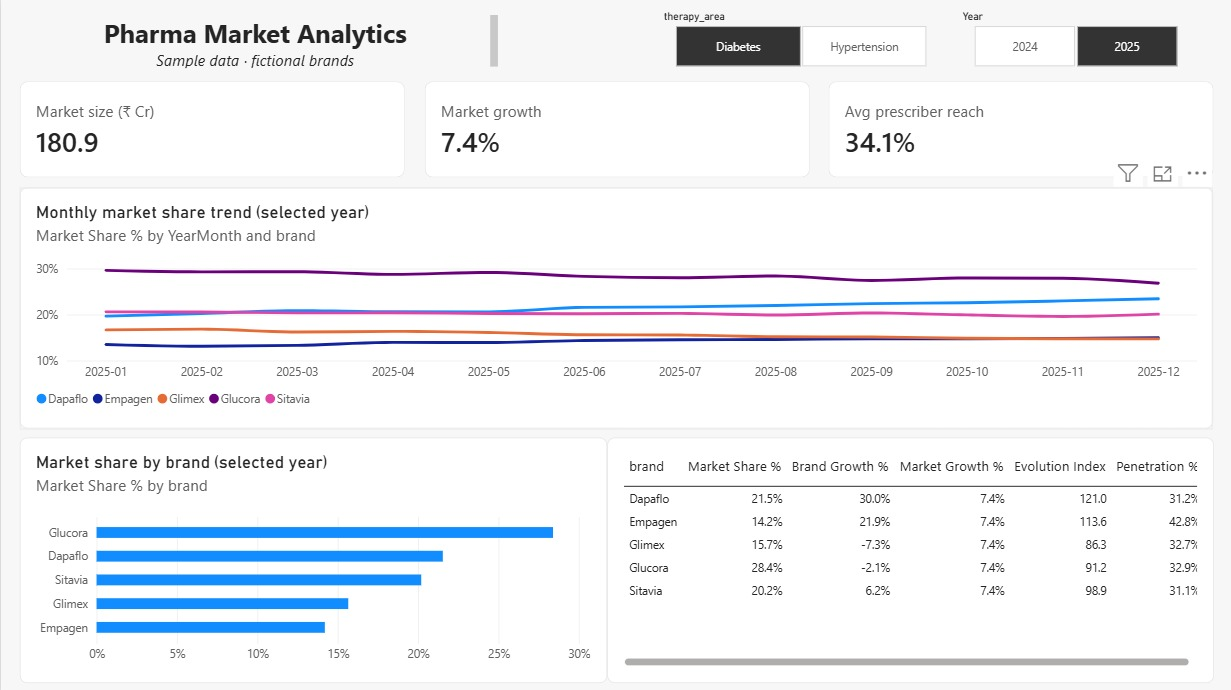

Layout of this report page (visuals, bound fields, positions):
{"tool":"powerbi","page":{"name":"Market Overview","canvas":[1280,720],"ordinal":0},"visuals":[{"type":"tableEx","fields":{"Values":["dim_brand.brand","KPI_Measures.Market Share %","KPI_Measures.Brand Growth %","KPI_Measures.Market Growth %","KPI_Measures.Evolution Index","KPI_Measures.Penetration %"]},"box":[630,455,630,255],"z":0},{"type":"slicer","fields":{"Values":["Date.Year"]},"box":[991.4,10,250,60],"z":1000},{"type":"slicer","fields":{"Values":["dim_brand.therapy_area"]},"box":[680,10,300,60],"z":2000},{"type":"textbox","box":[20,15,496.7,55],"z":3000},{"type":"cardVisual","fields":{"Data":["KPI_Measures.Sales (Cr)"]},"box":[20,85,400,100],"z":4000},{"type":"cardVisual","fields":{"Data":["KPI_Measures.Market Growth %"]},"box":[440,85,400,100],"z":5000},{"type":"cardVisual","fields":{"Data":["KPI_Measures.Avg Brand Reach %"]},"box":[860,85,400,100],"z":6000},{"type":"lineChart","title":"Monthly market share trend (selected year)","fields":{"Category":["Date.YearMonth"],"Series":["dim_brand.brand"],"Y":["KPI_Measures.Market Share %"]},"box":[20,195,1240,250],"z":7000},{"type":"clusteredBarChart","title":"Market share by brand (selected year)","fields":{"Category":["dim_brand.brand"],"Y":["KPI_Measures.Market Share %"]},"box":[20,455,610,255],"z":8000}]}

Visuals, with their boxes in screenshot pixels (x1, y1, x2, y2), scaled from the page's 1280x720 canvas onto the 1231x690 screenshot:
tableEx - dim_brand.brand x KPI_Measures.Market Share %: <box>606,436,1212,680</box>
slicer - Date.Year: <box>953,10,1194,67</box>
slicer - dim_brand.therapy_area: <box>654,10,942,67</box>
textbox: <box>19,14,497,67</box>
cardVisual - KPI_Measures.Sales (Cr): <box>19,81,404,177</box>
cardVisual - KPI_Measures.Market Growth %: <box>423,81,808,177</box>
cardVisual - KPI_Measures.Avg Brand Reach %: <box>827,81,1212,177</box>
"Monthly market share trend (selected year)" lineChart: <box>19,187,1212,426</box>
"Market share by brand (selected year)" clusteredBarChart: <box>19,436,606,680</box>
